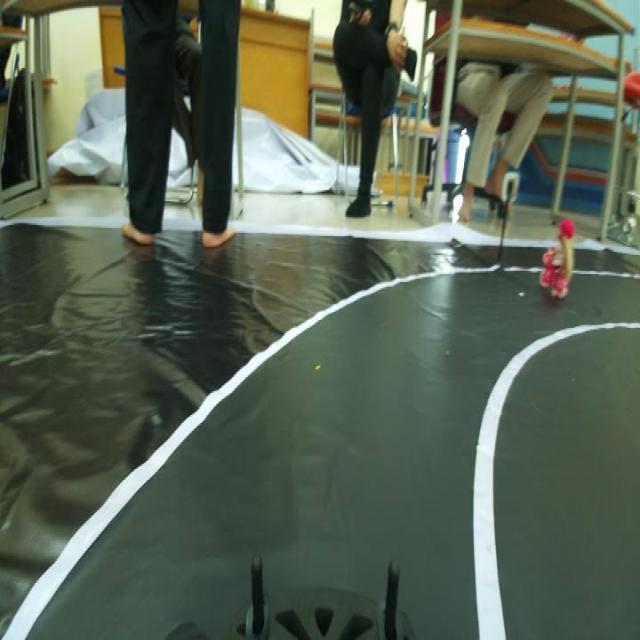pedestrian: (542, 213, 580, 310)
